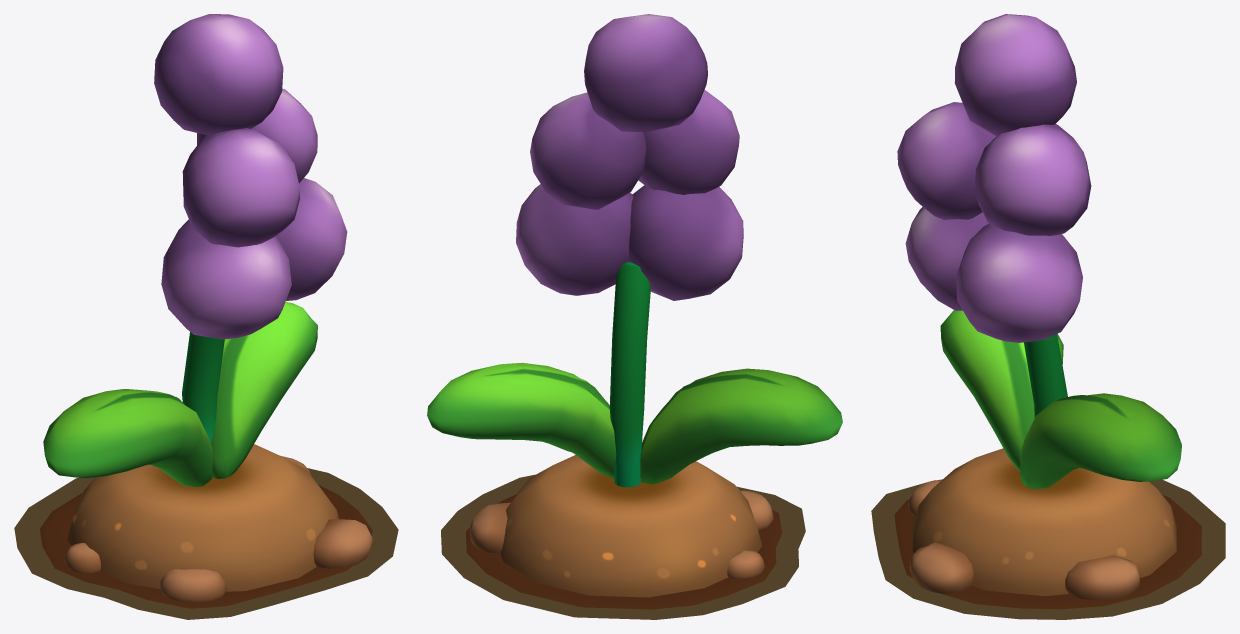
File: Flower02P_L02.fbx
3 renders of one model, left to right at view 1: azimuth 30°, elevation 25°; view 2: azimuth 150°, elevation 25°; view 3: azimuth 270°, elevation 25°, orthographic. The views are drawn at different scales.
Visible parts, largest first — view 1: Flower02P02_body, Flower02P02SDW; view 2: Flower02P02_body, Flower02P02SDW; view 3: Flower02P02_body, Flower02P02SDW.
Boxes of the visible parts, x1=… form: Flower02P02_body: x1=39, y1=14, x2=372, y2=608; Flower02P02SDW: x1=14, y1=468, x2=398, y2=619; Flower02P02_body: x1=427, y1=14, x2=842, y2=609; Flower02P02SDW: x1=441, y1=474, x2=805, y2=619; Flower02P02_body: x1=894, y1=14, x2=1201, y2=609; Flower02P02SDW: x1=871, y1=479, x2=1225, y2=619.
Size of the model in its own units: 117 by 169 by 104.
2 materials, 1 textured.
